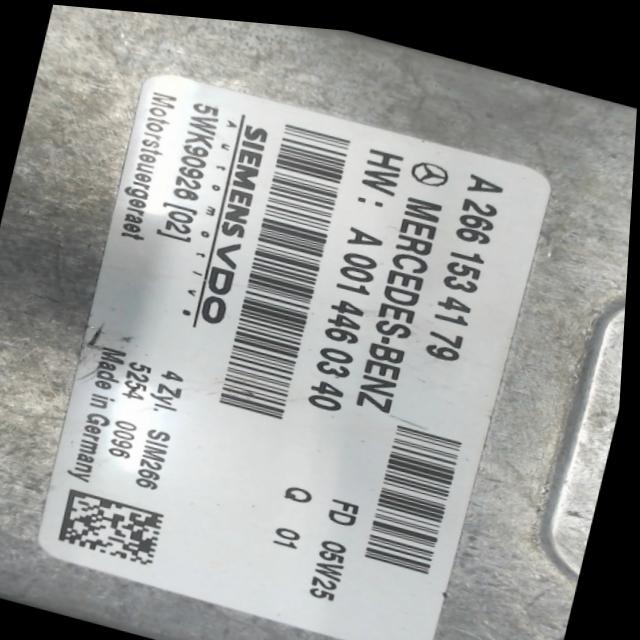datamatrix: (63, 486, 172, 564)
